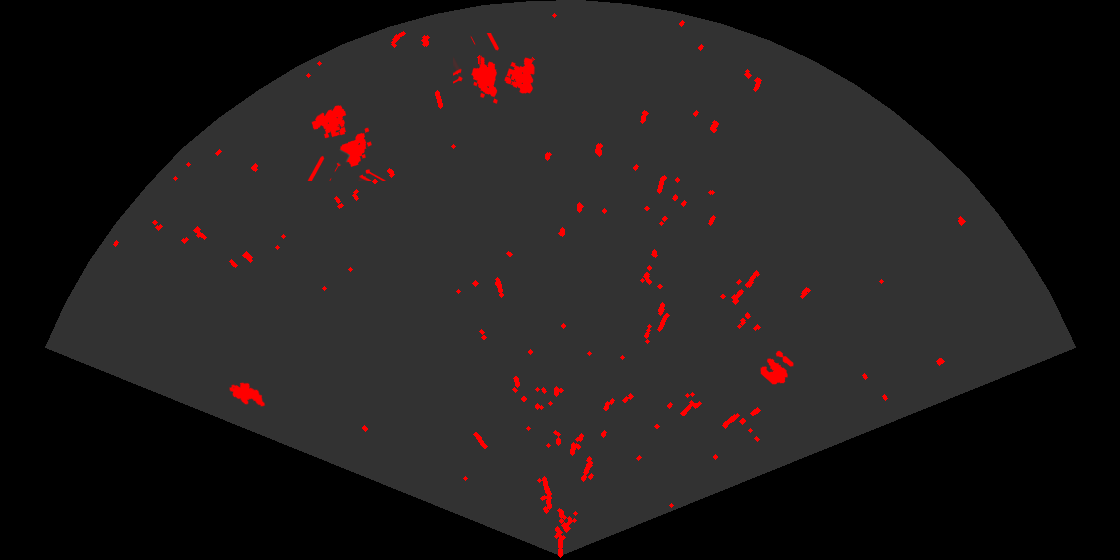AUV: (228, 381, 267, 408)
ball: (759, 349, 795, 386)
cage: (306, 104, 387, 181), (453, 33, 537, 105)
